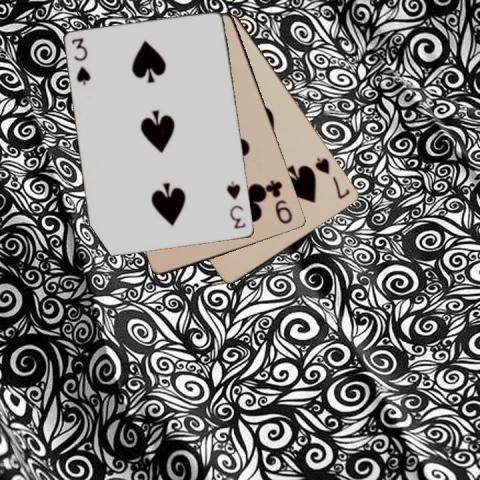3s: (69, 35, 93, 87), (224, 178, 247, 230)
7s: (312, 154, 352, 201)
9c: (266, 178, 294, 226)
